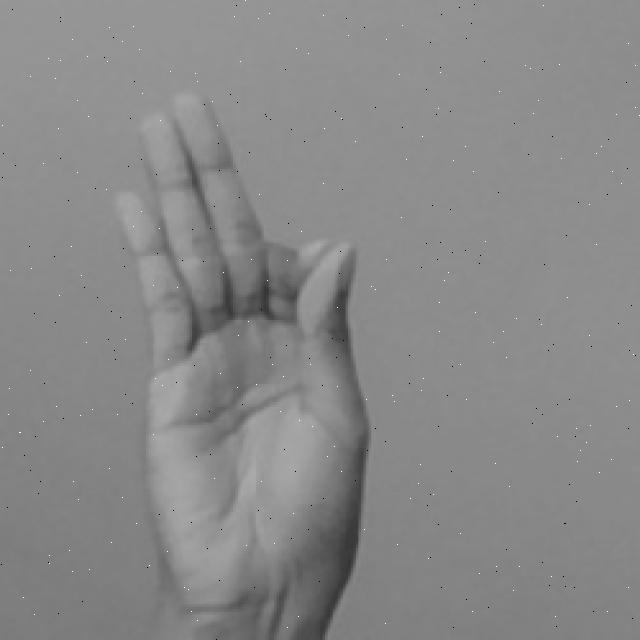F: (111, 86, 373, 640)
